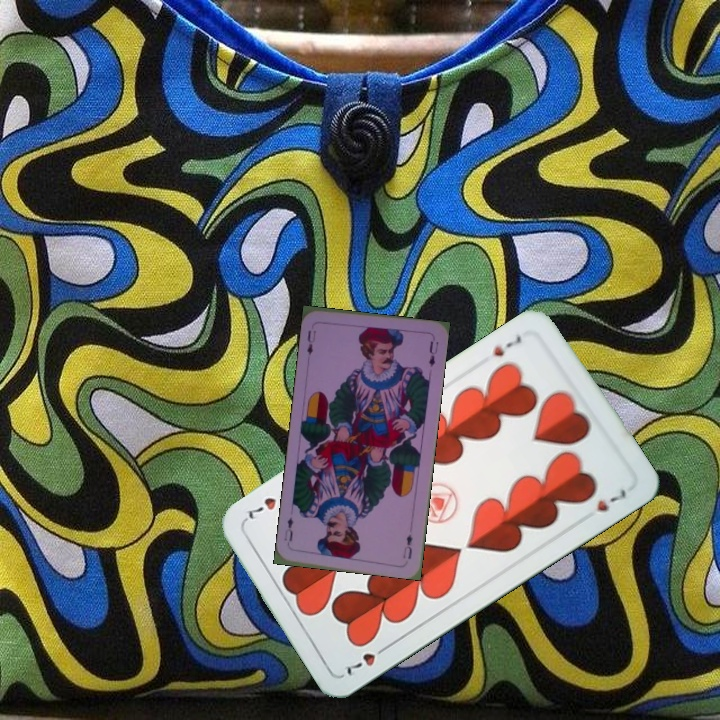EU: (399, 530, 415, 562), (303, 326, 318, 358)
H7: (341, 640, 392, 679), (487, 329, 524, 360)
